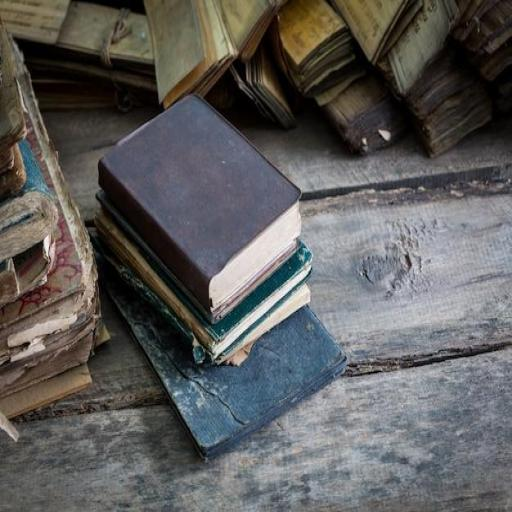paper: (91, 91, 348, 463), (0, 12, 115, 431)
